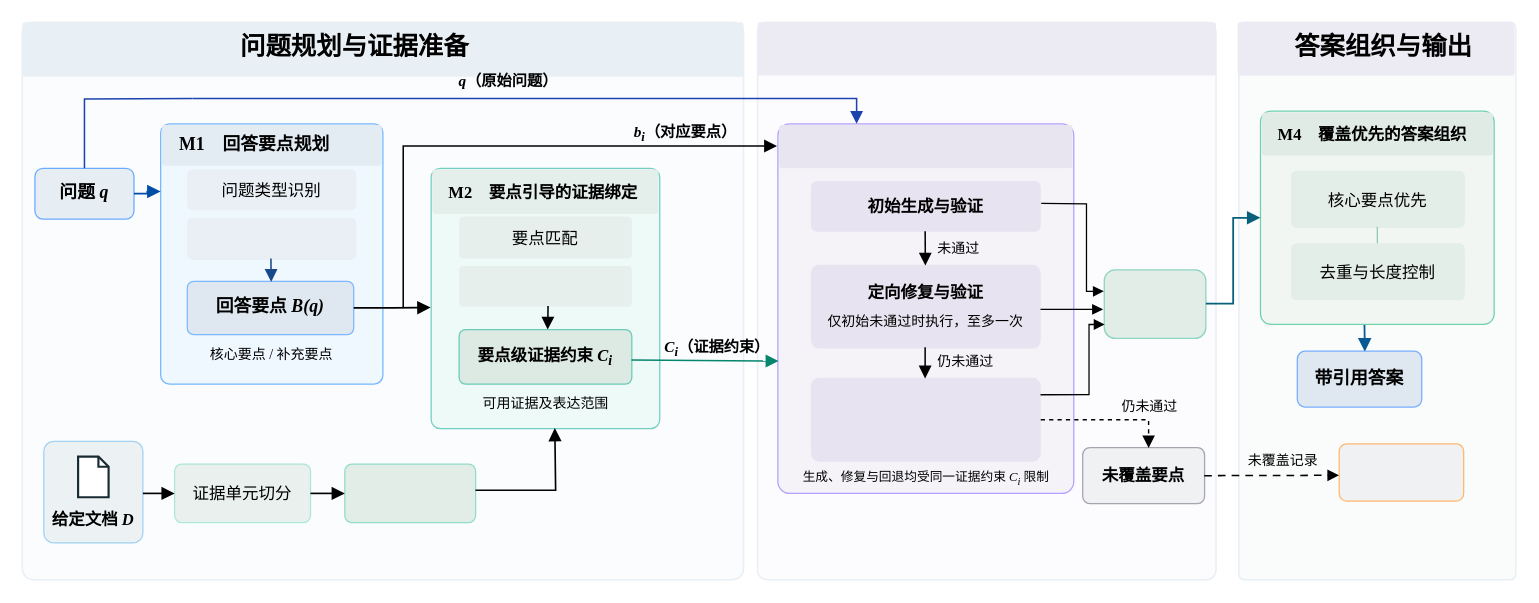
This 1539x603 diagram has some shape labels left out. Each missing label, with the centre of its shape:
"M3 证据约束的命题生成与修复" belongs at pixel 925 146.
"回答对象与条件" belongs at pixel 271 238.
"抽取式回退与验证 仅修复后仍无通过候选时执行" belongs at pixel 925 419.
"未覆盖要点记录" belongs at pixel 1401 472.
"证据单元 U" belongs at pixel 410 493.
"证据约束的命题生成" belongs at pixel 986 48.
"证据选择" belongs at pixel 544 285.
"验证通过 的命题" belongs at pixel 1154 303.
